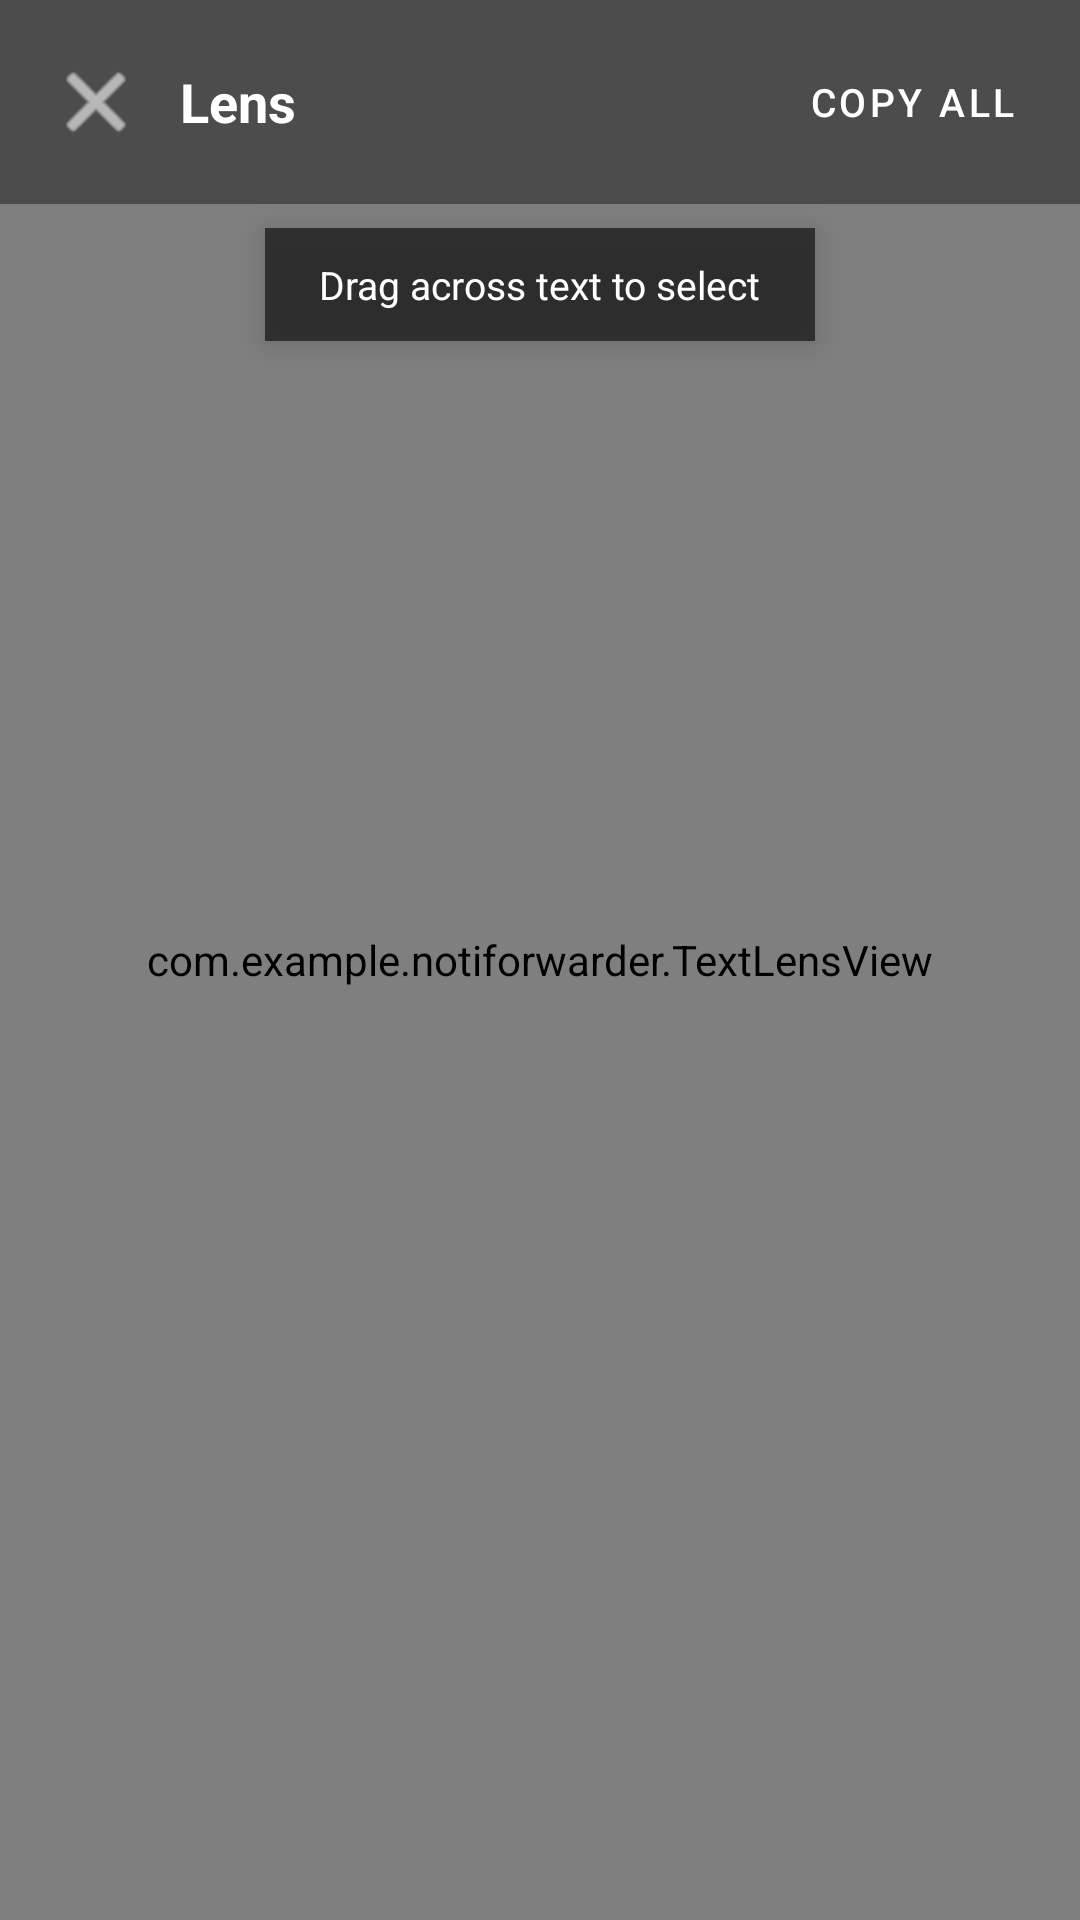

Icon click points for this 1080w x 1920h phone screenshot, format point (x, y):
Close: point (96, 102)
